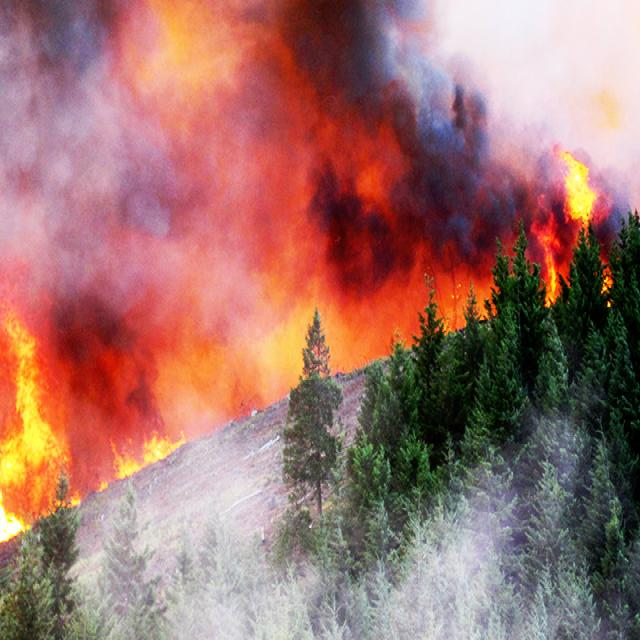api: (1, 252, 83, 554), (104, 415, 195, 492), (559, 139, 596, 233)
asap: (4, 1, 635, 337)
